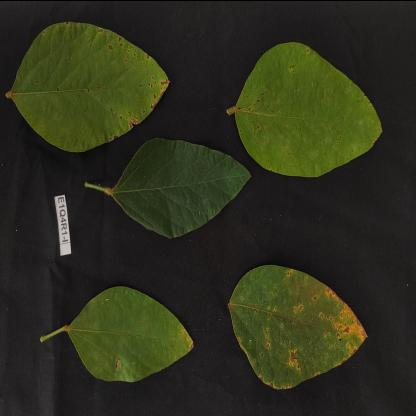label: (44, 186, 80, 262)
leaflets: (220, 245, 384, 402), (10, 14, 174, 158), (238, 38, 392, 172), (107, 127, 267, 246), (62, 282, 200, 391)
